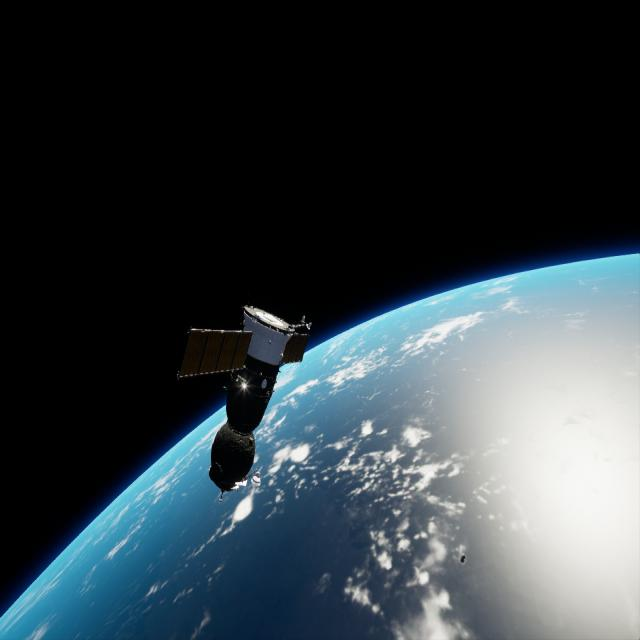Satellites revolving around earth: (174, 299, 314, 498)
